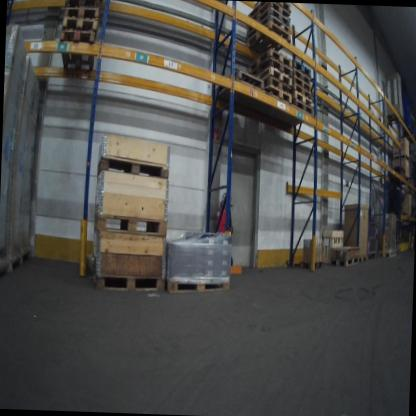pallet: (218, 63, 267, 107), (96, 156, 170, 185), (93, 270, 162, 295), (246, 22, 292, 58), (59, 29, 95, 74), (92, 215, 169, 236), (165, 276, 234, 299), (244, 15, 291, 46), (246, 8, 294, 33), (246, 3, 293, 24), (252, 49, 296, 67), (258, 66, 294, 84), (258, 61, 295, 78), (60, 2, 97, 18), (266, 86, 295, 106), (263, 75, 293, 93), (62, 16, 99, 30), (288, 102, 315, 121), (291, 90, 315, 108), (331, 257, 359, 271), (62, 0, 101, 9), (293, 77, 312, 94), (254, 2, 294, 10), (292, 85, 314, 99), (294, 61, 312, 77), (293, 69, 310, 84), (357, 253, 369, 267), (384, 251, 395, 260), (392, 249, 401, 257), (394, 246, 400, 253)
stillage: (365, 219, 379, 264)
